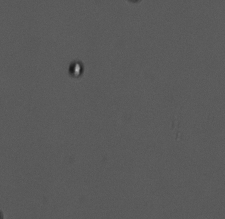Living Cell: (68, 60, 84, 78)
